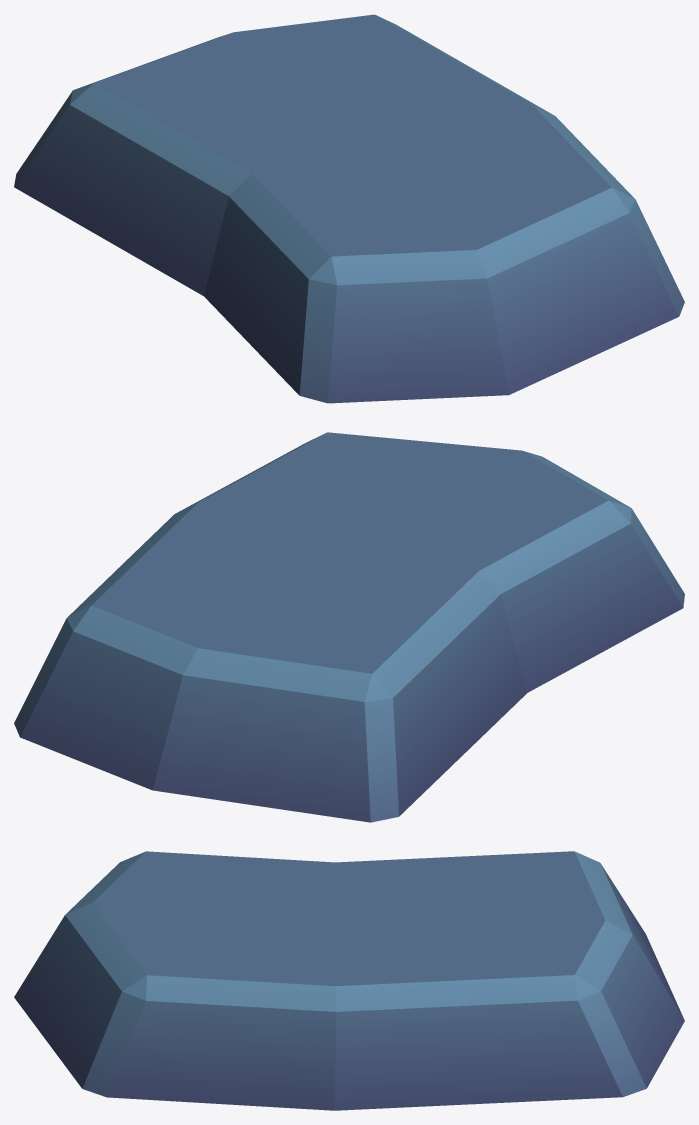
The model's file is Roadstones-3-3.fbx.
The picture shows the model from 3 angles, top to bottom: view 1: azimuth 30°, elevation 25°; view 2: azimuth 150°, elevation 25°; view 3: azimuth 270°, elevation 25°; orthographic projection. The views are drawn at different scales.
Parts seen in each view (by area): view 1: Roadstones-3-3; view 2: Roadstones-3-3; view 3: Roadstones-3-3.
Boxes of the visible parts, x1=… form: Roadstones-3-3: x1=14, y1=14, x2=684, y2=403; Roadstones-3-3: x1=14, y1=432, x2=684, y2=822; Roadstones-3-3: x1=14, y1=851, x2=684, y2=1110.
Bounding box in the file's own units: 70.92 × 18.02 × 110.
